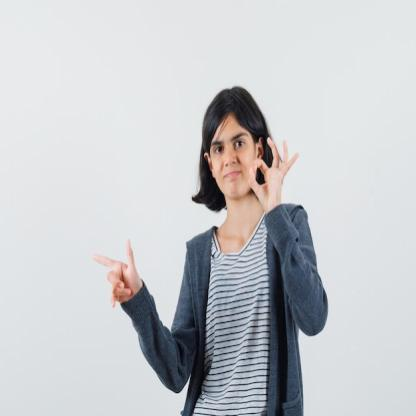ok: (247, 138, 303, 212)
